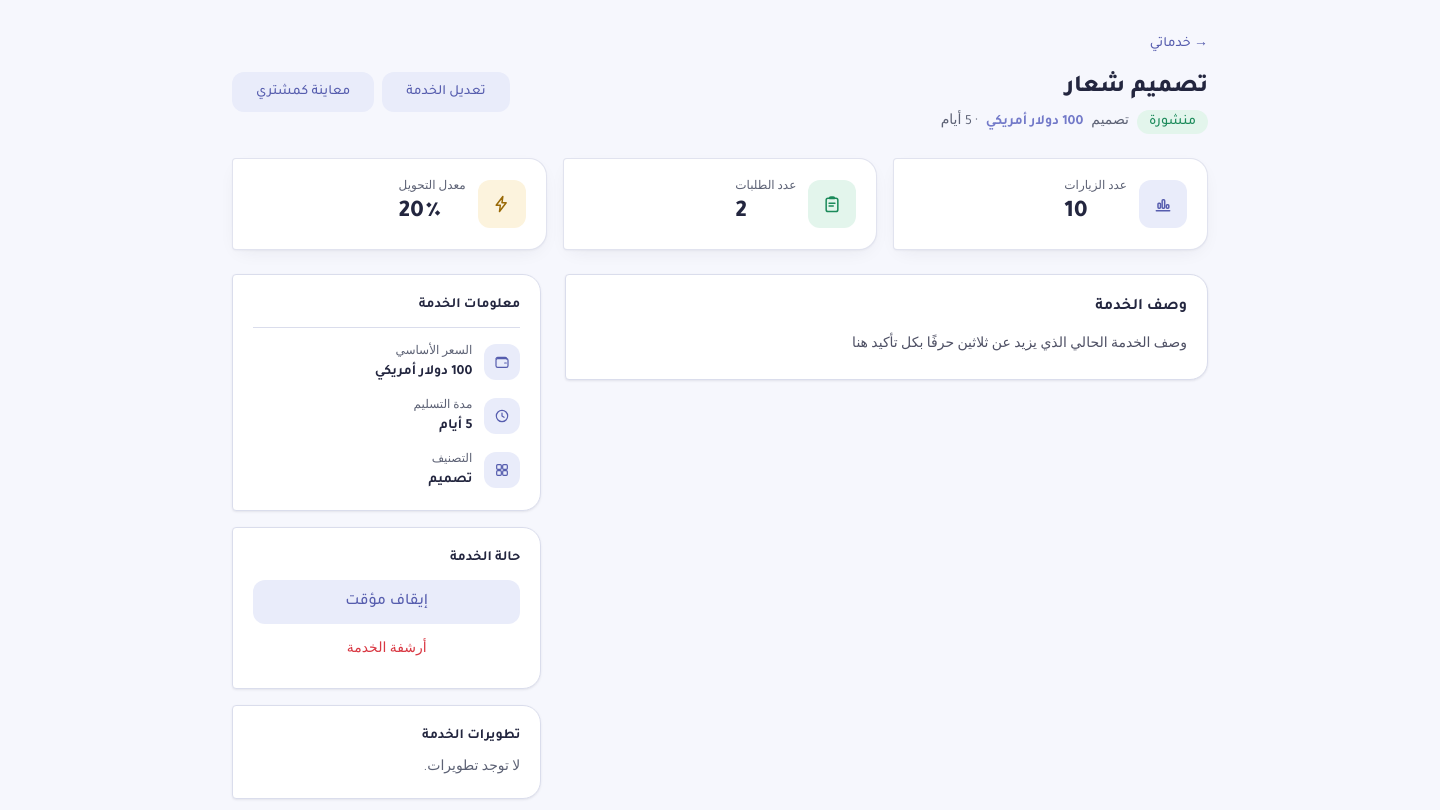
Scenario: OwnerServicePage edit › renders backend field errors per-input, not as one generic banner (P1-03)
The image size is (1440, 810).
Click the button "تعديل الخدمة" at point(446, 92), box [382, 72, 510, 112]
(page scrolled)
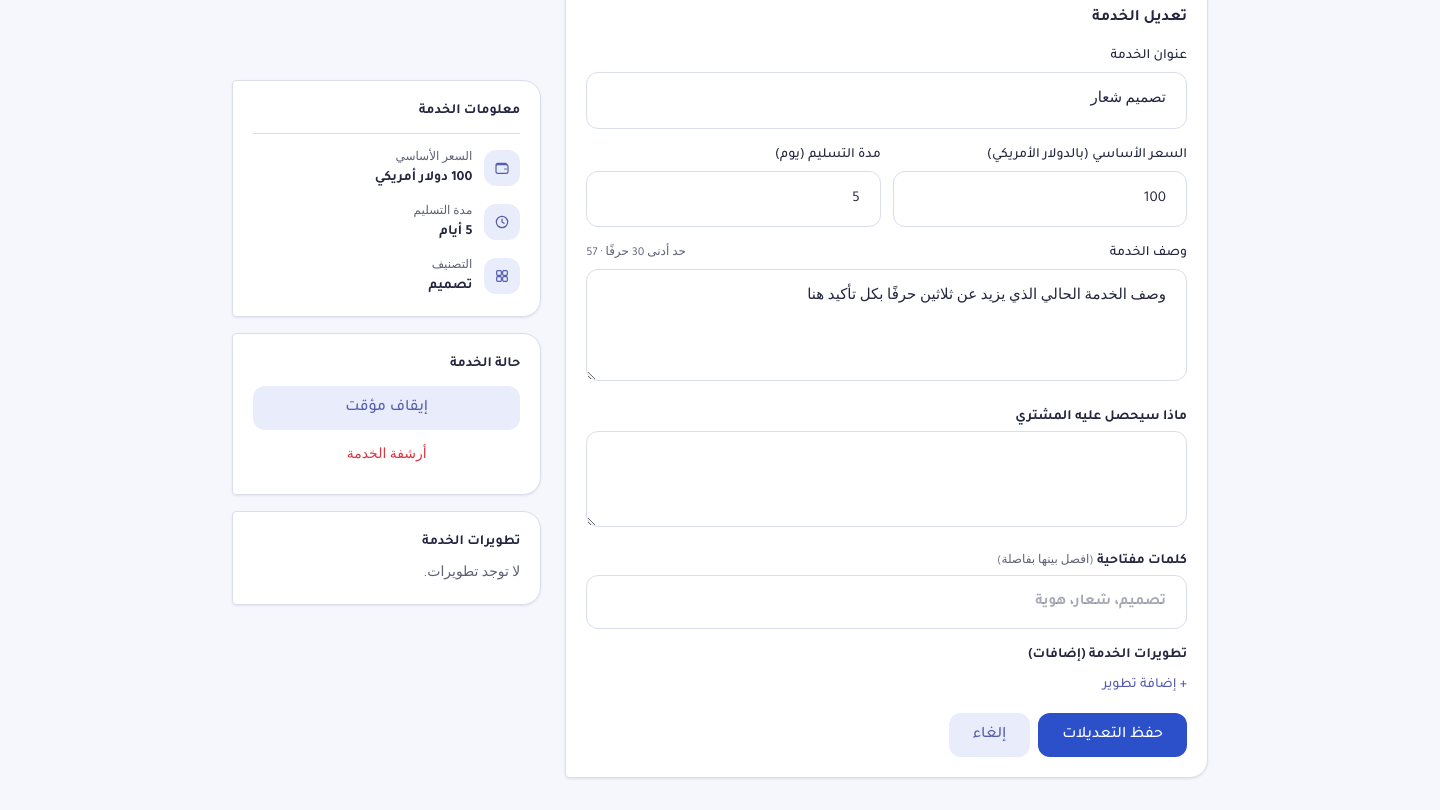
// valid client-side values so the request reaches the backend
Click the button "حفظ التعديلات" at point(1113, 735), box [1038, 713, 1187, 757]
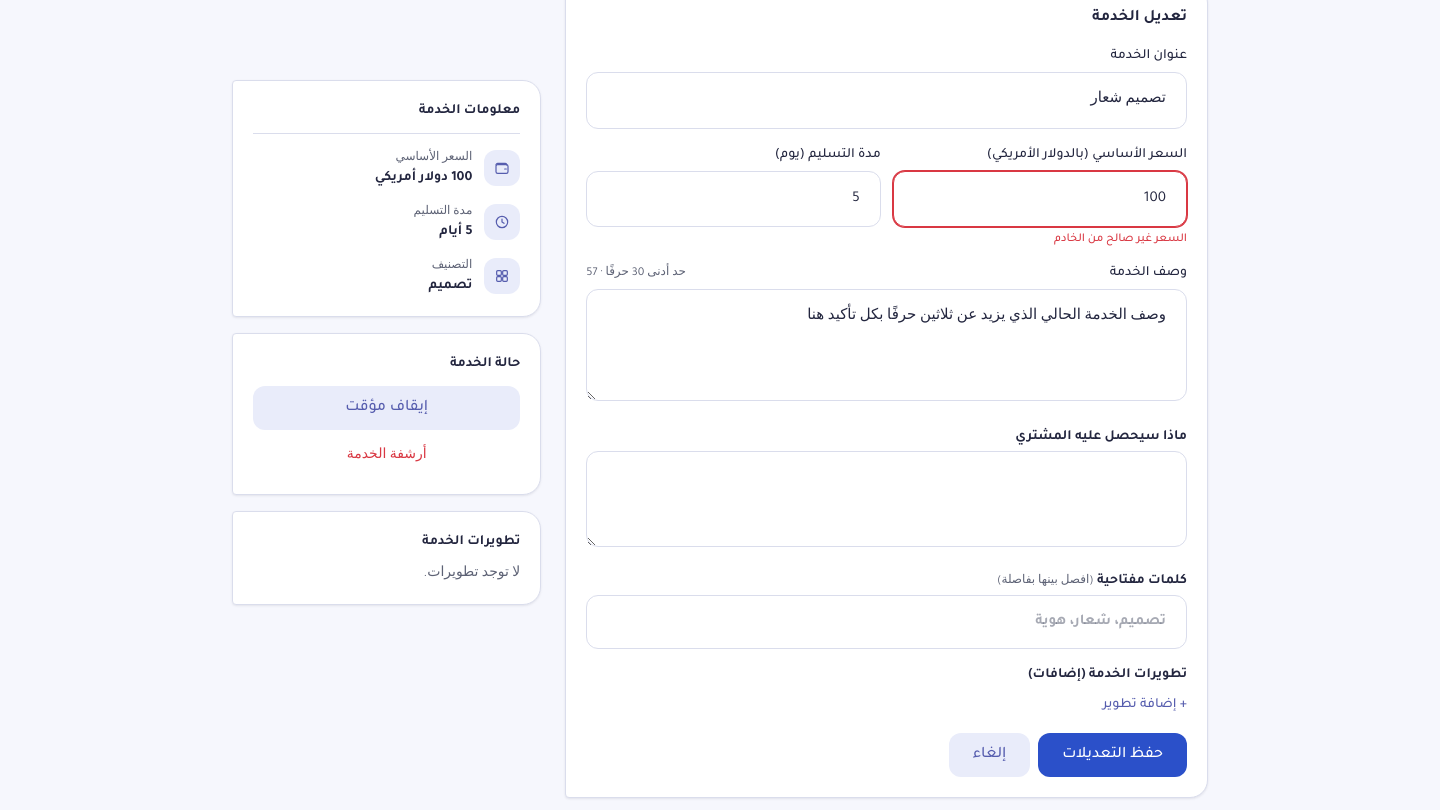
expect the text "السعر غير صالح من الخادم" is shown: met, box [1054, 233, 1187, 245]
